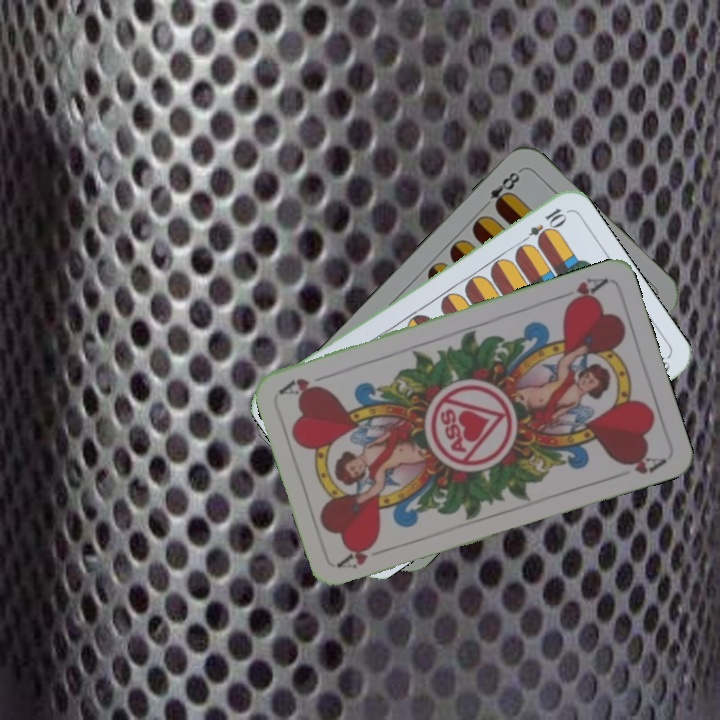E10: (516, 204, 569, 248)
E8: (477, 166, 524, 213)
HA: (552, 273, 610, 309), (334, 538, 392, 572)
